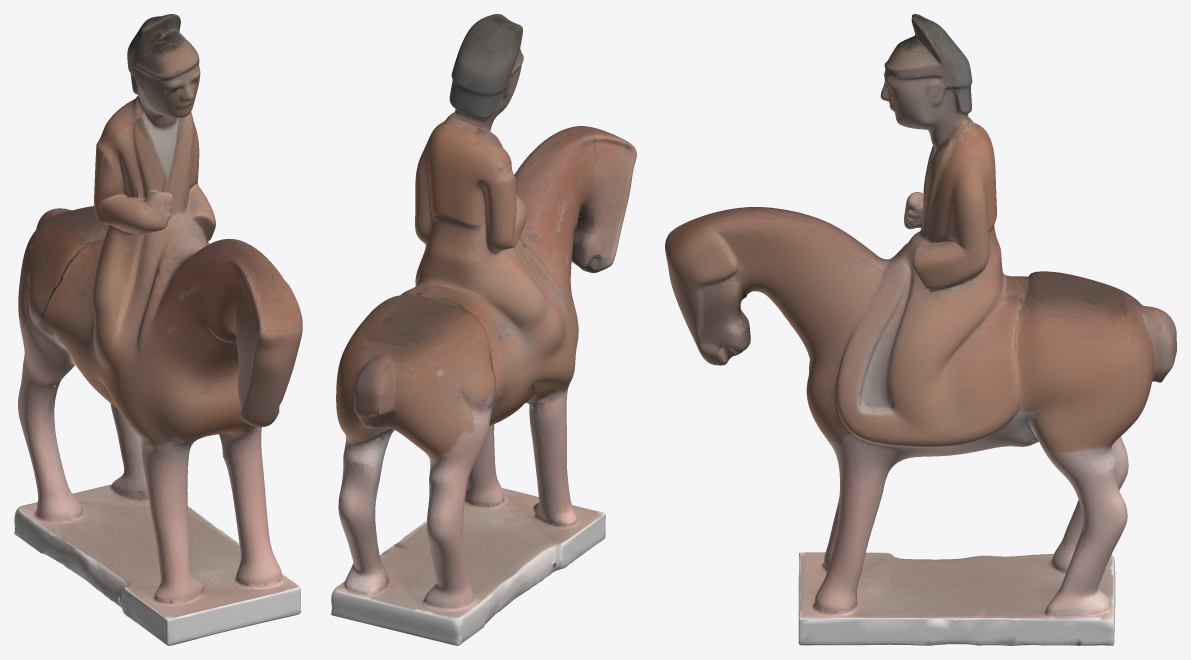
3 renders of one model, left to right at view 1: azimuth 30°, elevation 25°; view 2: azimuth 150°, elevation 25°; view 3: azimuth 270°, elevation 25°, orthographic. The views are drawn at different scales.
Visible parts, largest first — view 1: node_0; view 2: node_0; view 3: node_0.
Part boxes in pixels (box(x1,y1,x2,y2)): node_0: box(14, 14, 302, 645); node_0: box(331, 14, 636, 645); node_0: box(665, 14, 1176, 645).
Bounding box in the file's own units: 0.2713 × 1.01 × 0.7952.
Materials: 1 (1 with a texture image).
